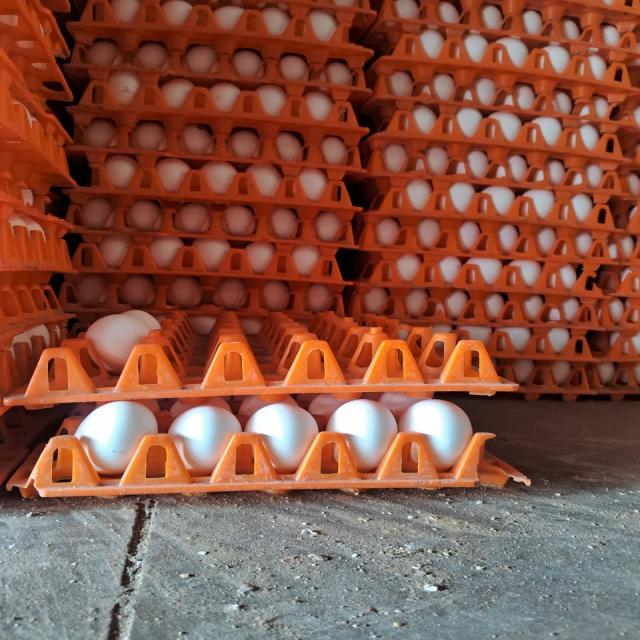egg_tray: (9, 396, 529, 496), (5, 311, 515, 405), (74, 40, 365, 172), (71, 163, 355, 286), (72, 86, 367, 199), (359, 180, 634, 301), (72, 188, 353, 306), (362, 144, 639, 263), (357, 180, 636, 298), (356, 147, 637, 264), (356, 148, 635, 263), (363, 146, 633, 263), (350, 288, 603, 398), (365, 134, 637, 230), (188, 312, 513, 392), (356, 174, 635, 264), (209, 312, 509, 394), (69, 198, 355, 281), (69, 70, 367, 146), (367, 147, 620, 236), (356, 219, 609, 306), (365, 0, 639, 78), (69, 0, 371, 68), (369, 58, 621, 138), (347, 284, 604, 362), (370, 28, 638, 102), (348, 285, 605, 362), (65, 39, 370, 102), (362, 70, 637, 139), (69, 155, 359, 220), (67, 117, 363, 180), (349, 288, 599, 362), (147, 279, 343, 373), (67, 197, 355, 260), (363, 140, 639, 203), (366, 107, 631, 170), (431, 314, 613, 399), (69, 284, 344, 340), (355, 212, 636, 266), (205, 312, 432, 378), (369, 0, 639, 55), (71, 235, 349, 286), (63, 310, 249, 386), (347, 283, 627, 332), (347, 282, 625, 330), (60, 274, 343, 321), (61, 274, 343, 321), (253, 312, 456, 376), (68, 310, 247, 382), (61, 273, 343, 315), (356, 252, 603, 298), (112, 307, 354, 352), (357, 254, 603, 298), (496, 327, 639, 400), (496, 326, 639, 399), (0, 50, 73, 188), (309, 311, 459, 368), (0, 274, 71, 394), (0, 284, 71, 395), (429, 318, 596, 364), (0, 181, 71, 283), (201, 0, 375, 41), (0, 0, 71, 100), (0, 94, 74, 189), (306, 310, 442, 358), (599, 172, 639, 329), (495, 358, 639, 401), (307, 311, 436, 358), (0, 310, 70, 396), (497, 358, 639, 400), (0, 313, 69, 396), (228, 281, 344, 326), (591, 264, 639, 372), (0, 212, 72, 283), (591, 298, 639, 398), (0, 407, 63, 483), (69, 308, 223, 338), (599, 194, 639, 308), (0, 0, 69, 62), (487, 326, 599, 364), (0, 269, 67, 331), (511, 0, 639, 32), (0, 283, 70, 334), (0, 407, 43, 482), (0, 314, 67, 360), (599, 256, 639, 330), (610, 136, 639, 238), (72, 305, 148, 336), (0, 174, 51, 220), (588, 361, 639, 400), (589, 361, 639, 400), (611, 168, 639, 234), (598, 260, 639, 302), (617, 98, 639, 171), (597, 295, 639, 333), (418, 222, 469, 252), (69, 310, 112, 338), (360, 316, 412, 339), (119, 327, 147, 368), (361, 228, 411, 248), (476, 236, 529, 253), (391, 318, 427, 343), (361, 232, 411, 248), (464, 31, 488, 62), (279, 54, 309, 76), (72, 188, 108, 206), (103, 156, 129, 179), (439, 328, 458, 358), (607, 310, 637, 328), (371, 218, 402, 234), (610, 369, 639, 386), (385, 146, 407, 168), (421, 26, 441, 50), (589, 47, 605, 76), (87, 326, 104, 352), (547, 42, 569, 62), (611, 262, 637, 278), (439, 292, 466, 307), (387, 322, 411, 338), (390, 320, 410, 339), (78, 276, 101, 292), (40, 0, 70, 12), (126, 292, 156, 304), (418, 107, 435, 128), (440, 342, 454, 366), (275, 209, 297, 224), (221, 368, 239, 386), (539, 118, 561, 132), (225, 360, 242, 378), (616, 114, 636, 128), (433, 3, 456, 14), (387, 148, 405, 162), (484, 186, 509, 196), (450, 292, 467, 306), (174, 314, 187, 332), (489, 114, 508, 126), (412, 384, 431, 396), (583, 124, 597, 140), (149, 86, 163, 102), (471, 329, 489, 341), (603, 25, 615, 42), (233, 208, 249, 220), (466, 328, 485, 338), (571, 242, 584, 256), (409, 277, 425, 288), (507, 38, 524, 48), (357, 314, 374, 324), (89, 323, 101, 337), (161, 0, 173, 14), (625, 222, 636, 237), (408, 301, 419, 316), (610, 240, 623, 251), (460, 0, 475, 9), (27, 272, 49, 278), (338, 351, 348, 364), (317, 324, 327, 337), (489, 0, 502, 10), (187, 318, 196, 332), (300, 250, 309, 264), (156, 374, 167, 385), (625, 306, 636, 317), (625, 174, 637, 184), (624, 49, 637, 58), (330, 338, 341, 348), (247, 354, 256, 366), (200, 238, 209, 250), (585, 314, 595, 324), (519, 227, 526, 241), (375, 272, 383, 284), (530, 299, 543, 306), (459, 108, 474, 114), (583, 232, 592, 242), (175, 2, 186, 10), (89, 154, 103, 160), (171, 314, 183, 321), (179, 283, 188, 292), (331, 340, 341, 348), (98, 86, 109, 93), (452, 183, 467, 188), (204, 374, 213, 382), (108, 317, 122, 322), (389, 192, 400, 198), (326, 387, 339, 392), (123, 238, 133, 244), (194, 348, 206, 353), (272, 286, 279, 294), (240, 318, 245, 328), (17, 227, 24, 234), (530, 312, 537, 319), (545, 230, 549, 242), (183, 338, 191, 344), (225, 316, 233, 322), (194, 336, 202, 342), (350, 386, 356, 394), (404, 264, 409, 273), (252, 168, 263, 172), (326, 388, 337, 392), (632, 272, 639, 278), (279, 314, 286, 320), (119, 382, 125, 389), (267, 356, 272, 364), (475, 112, 480, 120), (556, 310, 560, 320), (72, 206, 77, 214), (340, 187, 345, 195), (505, 302, 511, 308), (632, 52, 638, 58), (571, 298, 577, 304), (577, 208, 583, 214), (585, 126, 590, 133), (219, 74, 227, 78), (414, 329, 422, 333), (635, 76, 639, 84), (197, 349, 205, 353), (631, 256, 635, 264), (623, 236, 631, 240), (30, 230, 40, 233), (257, 320, 262, 326), (236, 363, 241, 369), (138, 89, 144, 94), (609, 301, 615, 306), (585, 128, 590, 134), (272, 294, 276, 301), (221, 10, 228, 14), (27, 389, 32, 394), (292, 194, 297, 199), (245, 372, 250, 377), (473, 362, 477, 368), (240, 318, 243, 326), (337, 174, 343, 178), (327, 166, 333, 170), (293, 91, 301, 94), (421, 318, 429, 321), (584, 135, 592, 138), (431, 6, 437, 10), (267, 358, 270, 366), (257, 178, 263, 182), (182, 322, 186, 328), (144, 276, 150, 280), (385, 282, 391, 286), (491, 314, 495, 320), (629, 278, 633, 284), (577, 237, 583, 241), (274, 9, 281, 12), (319, 216, 326, 219), (260, 358, 264, 363), (185, 354, 190, 358), (617, 190, 622, 194), (623, 8, 628, 12), (85, 358, 90, 362), (565, 26, 570, 30), (492, 6, 497, 10), (292, 348, 297, 352), (171, 80, 181, 82), (225, 353, 229, 358), (377, 332, 380, 338), (470, 236, 473, 242), (92, 66, 101, 68), (534, 240, 537, 246), (377, 320, 381, 324), (499, 300, 503, 304), (379, 362, 383, 366), (295, 336, 299, 340), (471, 156, 475, 160), (201, 255, 205, 259), (121, 354, 123, 362), (109, 354, 113, 358), (163, 324, 167, 328), (103, 320, 111, 322), (87, 238, 95, 240), (569, 316, 573, 320), (342, 95, 347, 98), (112, 218, 115, 223), (513, 156, 518, 159), (350, 387, 355, 390), (209, 357, 212, 362), (208, 357, 211, 362), (487, 300, 494, 302), (34, 66, 41, 68), (369, 318, 376, 320), (225, 359, 227, 366), (219, 353, 221, 360), (274, 32, 281, 34), (385, 322, 388, 326), (574, 130, 577, 134), (516, 122, 519, 126), (229, 77, 233, 80), (567, 299, 571, 302), (621, 52, 627, 54), (379, 371, 383, 374), (368, 298, 371, 302), (259, 322, 262, 326), (71, 276, 74, 280), (479, 154, 481, 160), (153, 320, 157, 323), (377, 386, 381, 389), (537, 120, 543, 122), (525, 194, 531, 196), (405, 282, 407, 288), (621, 134, 623, 140), (636, 108, 639, 112), (361, 314, 366, 316), (530, 300, 535, 302), (90, 224, 95, 226), (141, 96, 143, 101), (314, 363, 316, 368), (143, 202, 148, 204), (105, 356, 108, 359), (247, 398, 256, 399), (156, 278, 159, 281), (555, 310, 558, 313), (568, 19, 571, 22), (440, 387, 443, 390), (608, 285, 611, 288), (128, 282, 132, 284), (183, 2, 187, 4), (111, 80, 113, 84), (605, 381, 609, 383), (633, 48, 635, 52), (568, 22, 572, 24), (31, 382, 33, 386), (169, 380, 171, 384), (111, 178, 113, 182), (585, 44, 587, 48), (370, 388, 374, 390), (225, 374, 227, 378), (425, 358, 427, 362), (155, 324, 157, 328), (237, 180, 241, 182), (307, 244, 311, 246), (575, 312, 579, 314), (630, 244, 632, 248), (392, 164, 395, 166), (357, 286, 359, 289), (380, 366, 383, 368), (93, 220, 96, 222), (621, 373, 623, 376), (559, 221, 561, 224), (89, 92, 95, 93), (212, 244, 215, 246), (127, 278, 130, 280), (268, 249, 270, 252), (111, 356, 113, 358), (414, 332, 418, 333), (277, 324, 279, 326), (255, 332, 259, 333), (501, 248, 503, 250), (285, 86, 287, 88), (625, 2, 627, 4), (432, 301, 434, 303), (217, 328, 219, 330), (600, 390, 602, 392), (423, 338, 425, 340), (300, 328, 302, 330), (156, 186, 158, 188), (225, 355, 227, 357), (243, 390, 245, 392), (208, 301, 210, 303), (273, 238, 275, 240), (329, 189, 331, 191), (167, 272, 169, 274), (152, 206, 154, 208), (124, 141, 125, 144), (245, 331, 246, 334), (173, 54, 176, 55), (267, 10, 270, 11), (382, 322, 385, 323), (336, 27, 339, 28), (375, 319, 377, 320), (123, 144, 125, 145), (191, 349, 192, 351), (185, 332, 186, 334), (337, 169, 339, 170), (362, 82, 363, 84), (427, 269, 428, 271), (618, 36, 619, 38), (260, 372, 261, 374), (141, 180, 142, 182), (160, 161, 162, 162), (0, 51, 1, 53), (289, 188, 290, 190), (636, 310, 637, 312), (253, 342, 254, 344), (426, 391, 428, 392), (300, 391, 302, 392), (232, 384, 233, 386), (332, 288, 333, 290), (285, 178, 286, 180), (403, 277, 405, 278), (599, 206, 601, 207), (533, 193, 535, 194), (591, 300, 592, 302), (340, 280, 341, 282), (167, 270, 169, 271), (141, 212, 143, 213), (596, 323, 597, 325), (576, 307, 577, 309), (450, 245, 452, 246), (20, 329, 21, 330), (247, 407, 248, 408), (472, 301, 473, 302), (229, 391, 230, 392), (173, 381, 174, 382), (232, 91, 233, 92), (236, 358, 237, 359), (545, 131, 546, 132), (378, 269, 379, 270), (127, 338, 128, 338), (99, 335, 99, 337), (103, 323, 103, 323), (14, 332, 17, 332), (527, 221, 527, 221), (554, 134, 555, 134), (629, 204, 629, 206), (612, 303, 613, 303), (231, 8, 233, 8), (154, 408, 155, 408), (601, 376, 601, 376), (639, 377, 639, 379), (627, 366, 627, 368), (623, 363, 624, 363), (405, 325, 405, 325), (409, 321, 410, 321), (261, 323, 261, 325), (605, 91, 605, 92), (525, 50, 525, 50), (409, 3, 410, 3), (489, 374, 490, 374), (351, 330, 352, 330), (570, 305, 572, 305), (507, 303, 508, 303), (121, 388, 121, 390), (155, 350, 156, 350), (296, 325, 297, 325), (171, 278, 172, 278), (309, 170, 312, 170), (519, 159, 521, 159), (77, 141, 77, 141), (87, 90, 88, 90), (165, 86, 166, 86), (204, 350, 205, 350), (200, 350, 202, 350), (231, 332, 232, 332), (403, 325, 404, 325), (625, 203, 625, 203), (399, 230, 399, 230), (381, 158, 381, 159), (49, 434, 50, 434), (463, 334, 464, 334), (362, 389, 363, 389), (381, 388, 381, 390), (603, 334, 604, 334), (151, 319, 152, 319), (235, 392, 240, 392), (387, 390, 388, 390), (165, 287, 165, 288), (125, 284, 125, 288), (241, 236, 241, 236), (199, 227, 201, 227), (190, 227, 193, 227), (98, 201, 100, 201), (243, 194, 243, 194), (584, 136, 586, 136), (584, 197, 586, 197), (577, 196, 581, 196), (520, 159, 521, 159), (236, 274, 237, 274), (311, 256, 312, 256), (258, 252, 259, 252), (191, 250, 192, 250), (138, 201, 139, 201)
